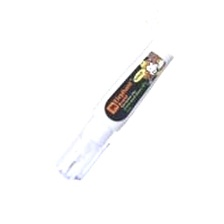correction_fluid: (53, 37, 179, 183)
